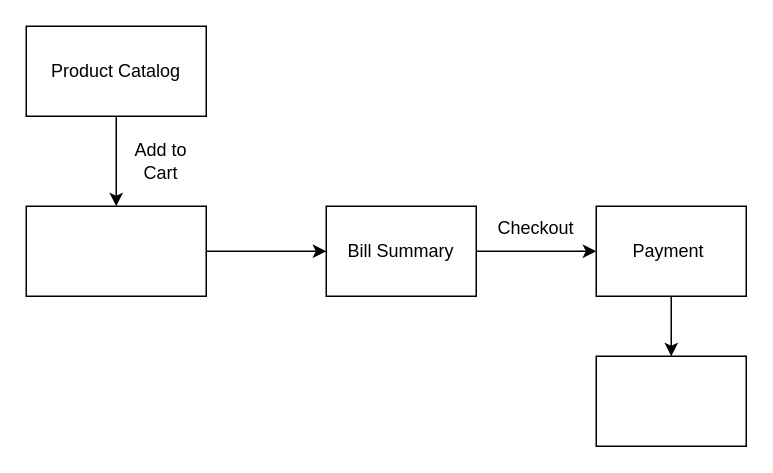
This 773x473 diagram has some shape labels left out. The shapes that lost their labels are listed below. From the top down, each one's centre as x and y in pixels, then its label:
At point 115,250: "Cart".
At point 670,400: "Payment confirmation and Bill".
